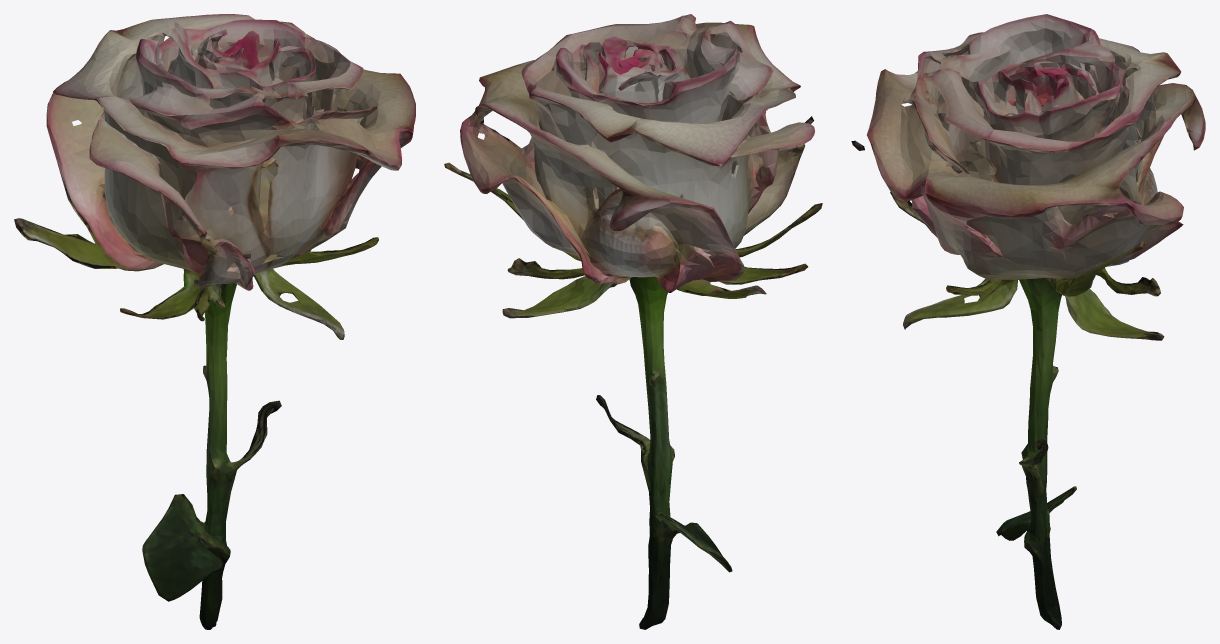
3 views of the same model, side by side, from view 1: azimuth 30°, elevation 25°; view 2: azimuth 150°, elevation 25°; view 3: azimuth 270°, elevation 25° (orthographic). The views are drawn at different scales.
Parts seen in each view (by area): view 1: world; view 2: world; view 3: world.
Part boxes in pixels (x1,y1,x2,y2): world: (14, 14, 415, 629); world: (444, 14, 822, 629); world: (851, 14, 1205, 629).
Size of the model in its own units: 0.5583 by 0.9367 by 0.5191.
1 material, 1 textured.
